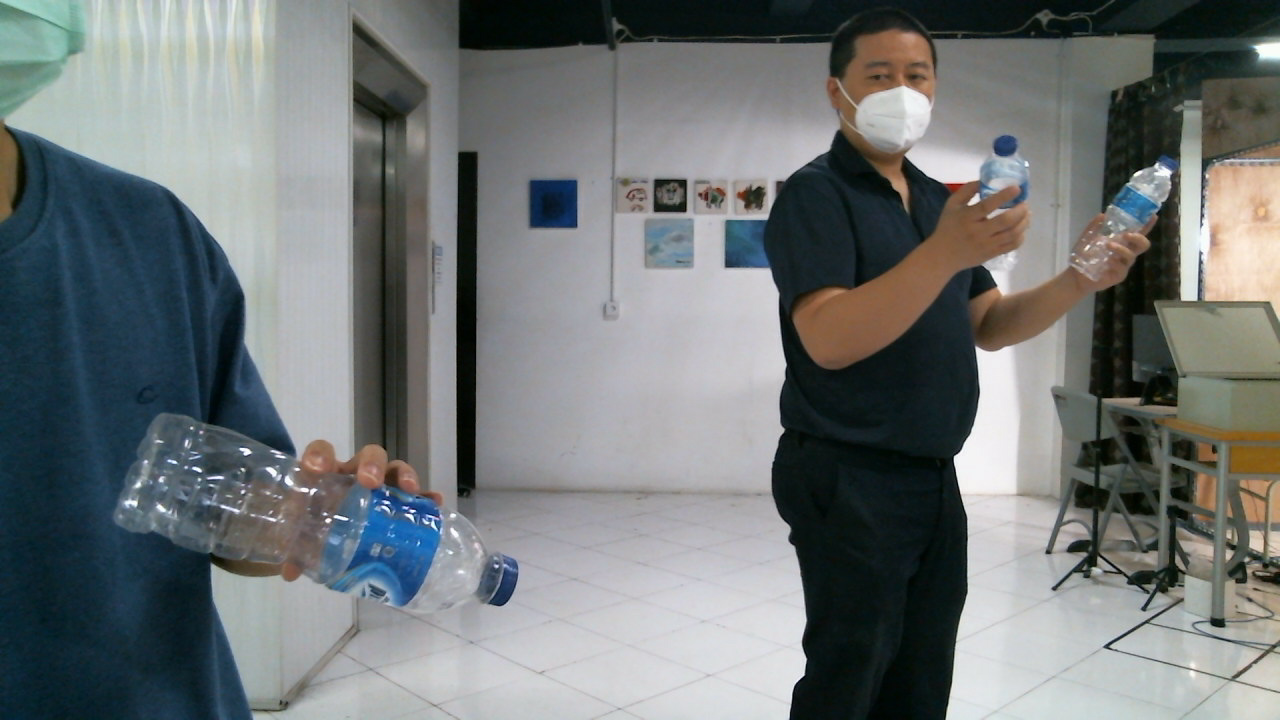Bottle: (110, 411, 515, 610), (1068, 154, 1172, 283)
